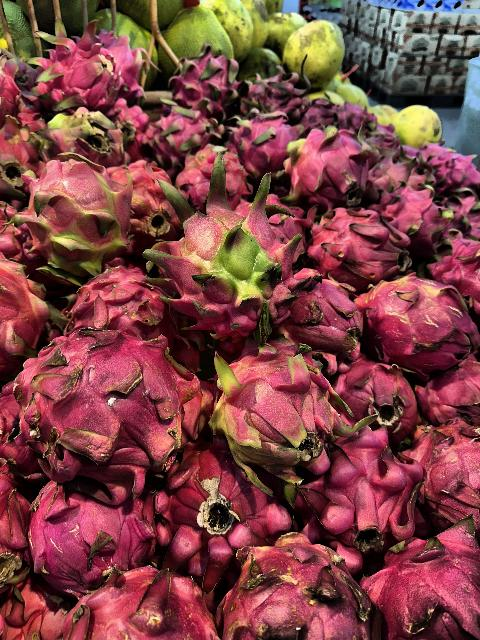buah-naga-belum-matang: (151, 151, 310, 331), (197, 320, 359, 480), (13, 150, 137, 274), (367, 268, 473, 374), (28, 114, 134, 168)
buah-naga-matang: (5, 331, 206, 482), (224, 534, 384, 640), (151, 452, 285, 552), (22, 482, 160, 576), (370, 526, 480, 640), (292, 430, 412, 530), (56, 566, 214, 640), (64, 260, 172, 344), (308, 200, 406, 282), (285, 115, 371, 207), (414, 419, 480, 531), (330, 355, 414, 437), (42, 31, 128, 100), (166, 47, 242, 117), (116, 156, 180, 237), (178, 146, 258, 210), (385, 179, 451, 251), (416, 358, 480, 432), (230, 112, 300, 170), (146, 106, 210, 154)
